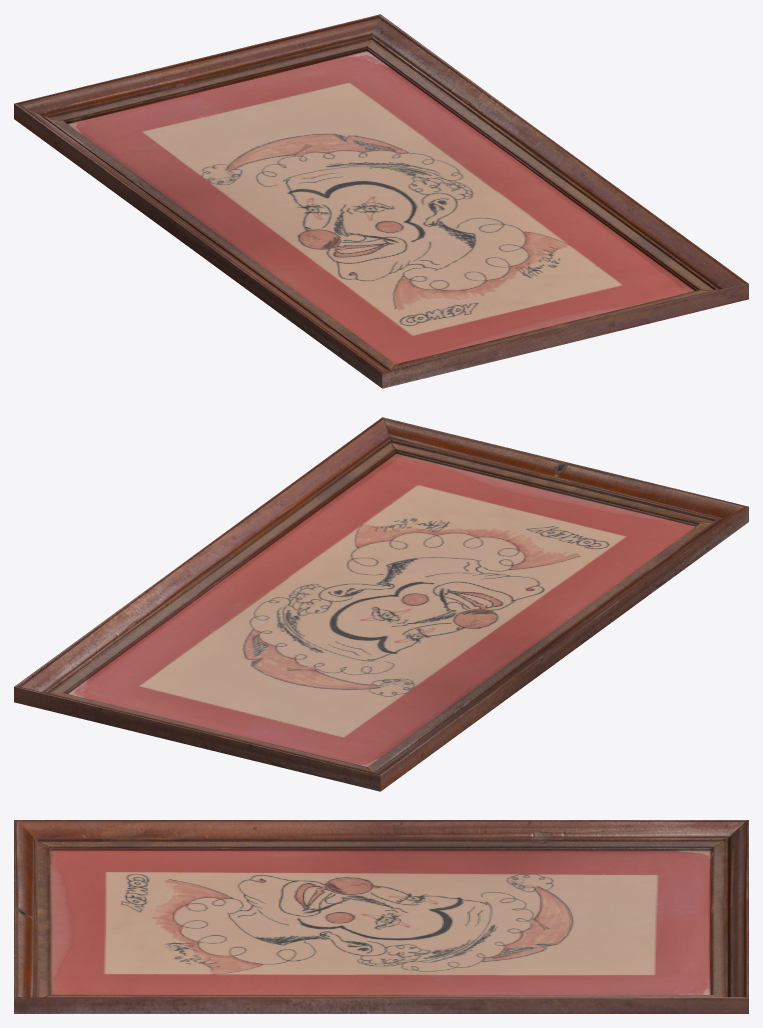
The model's file is frame.obj.
The picture shows the model from 3 angles, top to bottom: view 1: azimuth 30°, elevation 25°; view 2: azimuth 150°, elevation 25°; view 3: azimuth 270°, elevation 25°; orthographic projection.
Visible parts, largest first — view 1: Plane; view 2: Plane; view 3: Plane.
Boxes of the visible parts, <box> form: Plane: <box>14,14,748,388</box>; Plane: <box>14,417,748,791</box>; Plane: <box>14,820,748,1013</box>.
Size of the model in its own units: 10.16 by 0.4077 by 17.68.
1 material, 1 textured.
